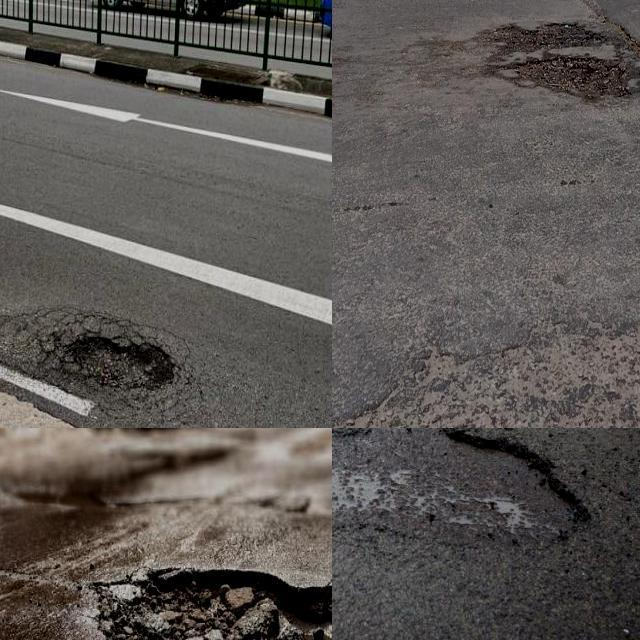Pothole: (332, 428, 588, 549), (95, 566, 332, 640), (499, 23, 626, 102), (69, 335, 174, 393)
